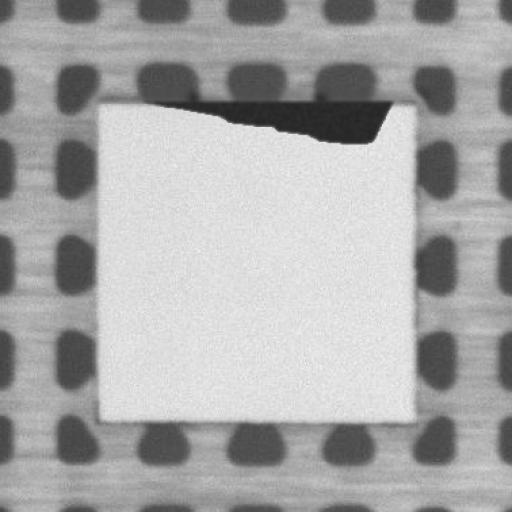DIE_BROKEN: (157, 92, 396, 147)
